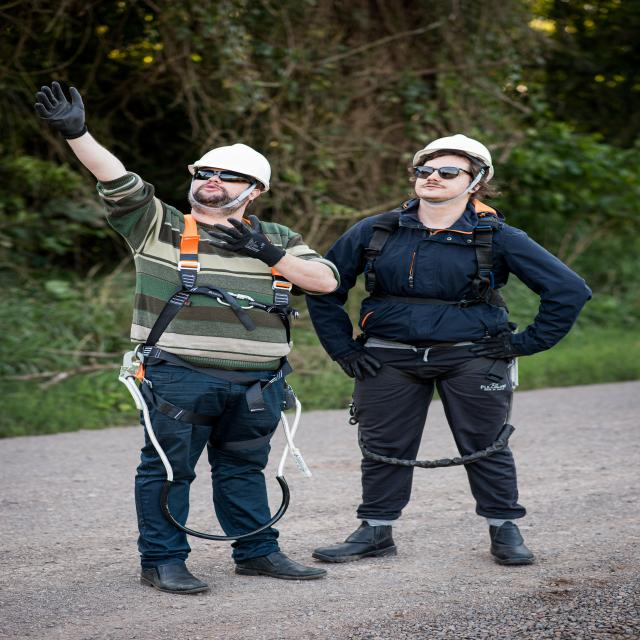botas: (310, 516, 401, 567), (225, 547, 331, 584), (128, 556, 217, 598), (479, 519, 541, 569)
capacete: (408, 132, 498, 188), (184, 142, 273, 194)
corda de vida: (113, 208, 305, 429), (351, 205, 522, 398)
luva: (204, 212, 293, 270), (28, 79, 94, 141), (326, 342, 386, 380), (465, 330, 533, 361)
